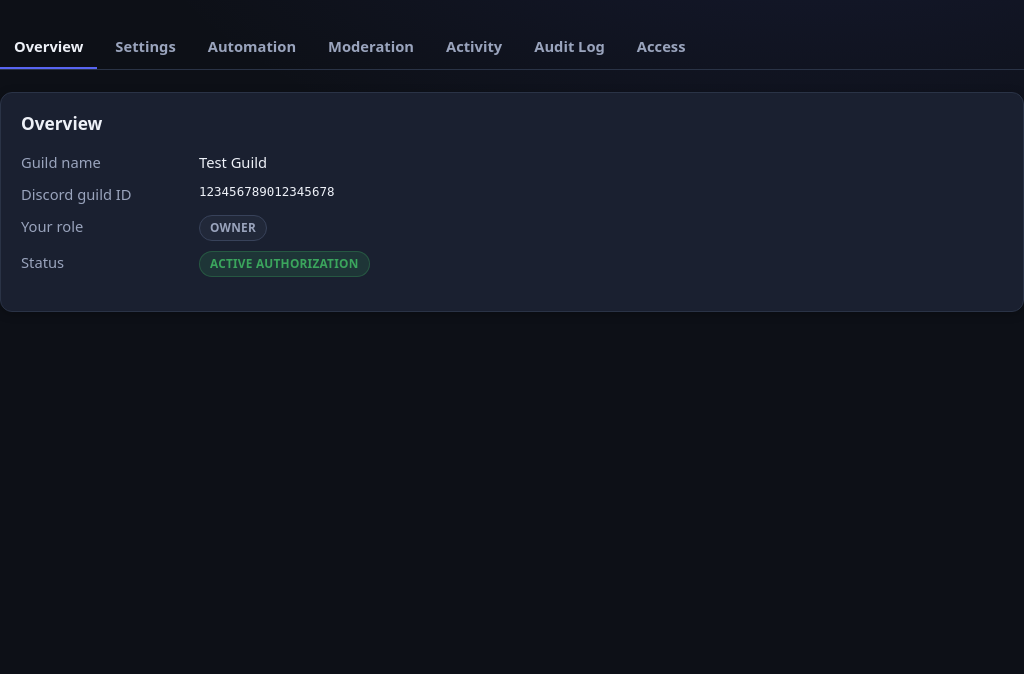
Test case: GuildDetailPage › exposes an Automation tab that opens the welcome/goodbye cards
Click the tab "Automation": (252, 47) x1=194 y1=25 x2=310 y2=69
(page scrolled)
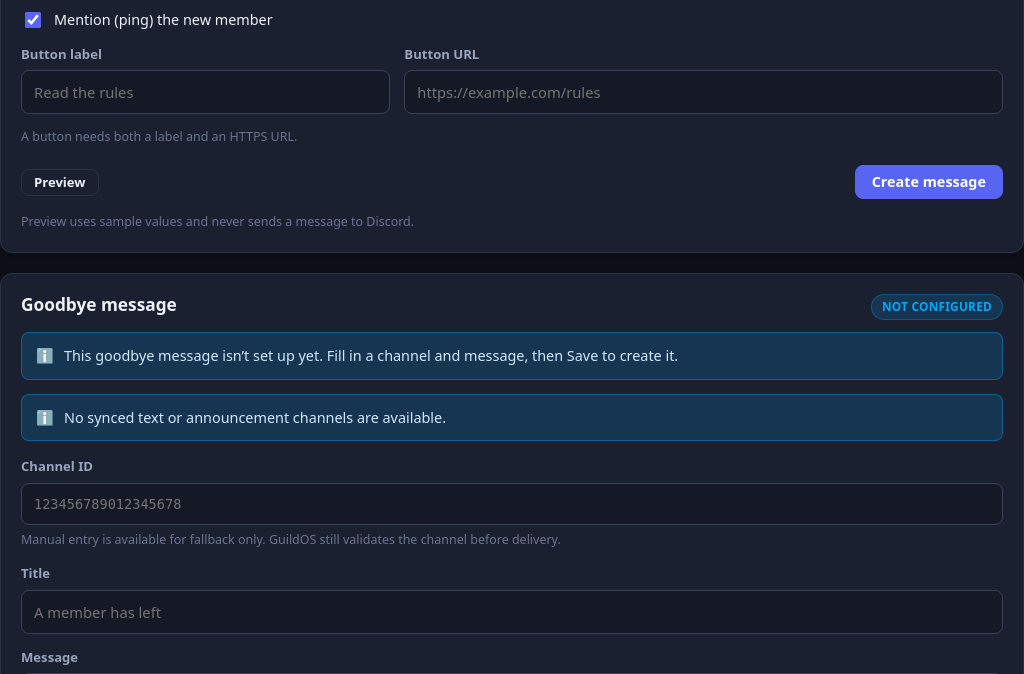
Expected: the heading "Goodbye message" is shown, x1=21 y1=294 x2=177 y2=316
